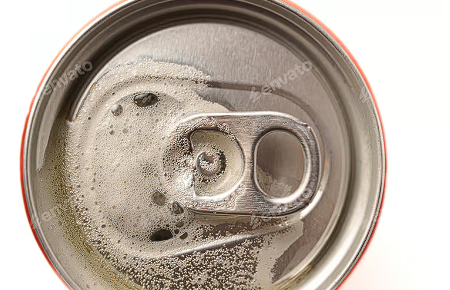Danificado: (30, 1, 392, 290)
